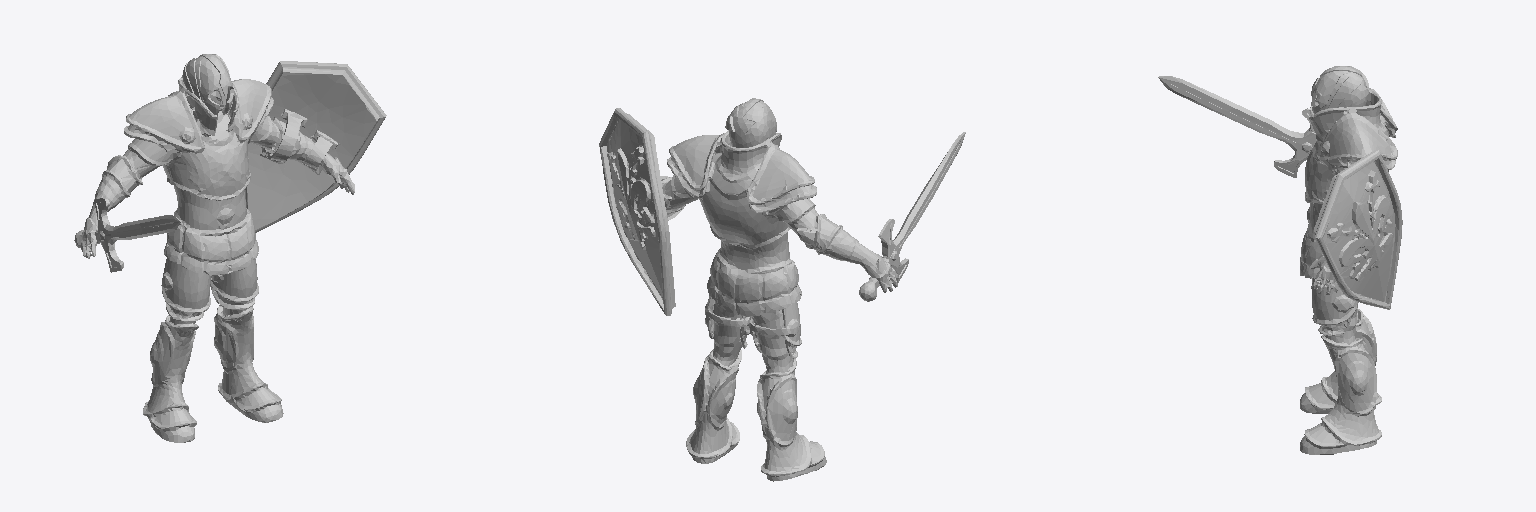
The model's file is armor.obj.
The picture shows the model from 3 angles: view 1: azimuth 30°, elevation 25°; view 2: azimuth 150°, elevation 25°; view 3: azimuth 270°, elevation 25°; orthographic projection.
Parts seen in each view (by area): view 1: Root Group61487, Group61487_001 Root; view 2: Root Group61487, Group61487_001 Root; view 3: Root Group61487, Group61487_001 Root.
Boxes of the visible parts, box(x1,y1,x2,y2) form: Root Group61487: box(81, 54, 386, 442); Group61487_001 Root: box(74, 198, 180, 272); Root Group61487: box(599, 98, 898, 481); Group61487_001 Root: box(859, 132, 965, 301); Root Group61487: box(1300, 66, 1402, 454); Group61487_001 Root: box(1158, 76, 1316, 177).
Bounding box in the file's own units: 1.68 × 1.95 × 1.19.